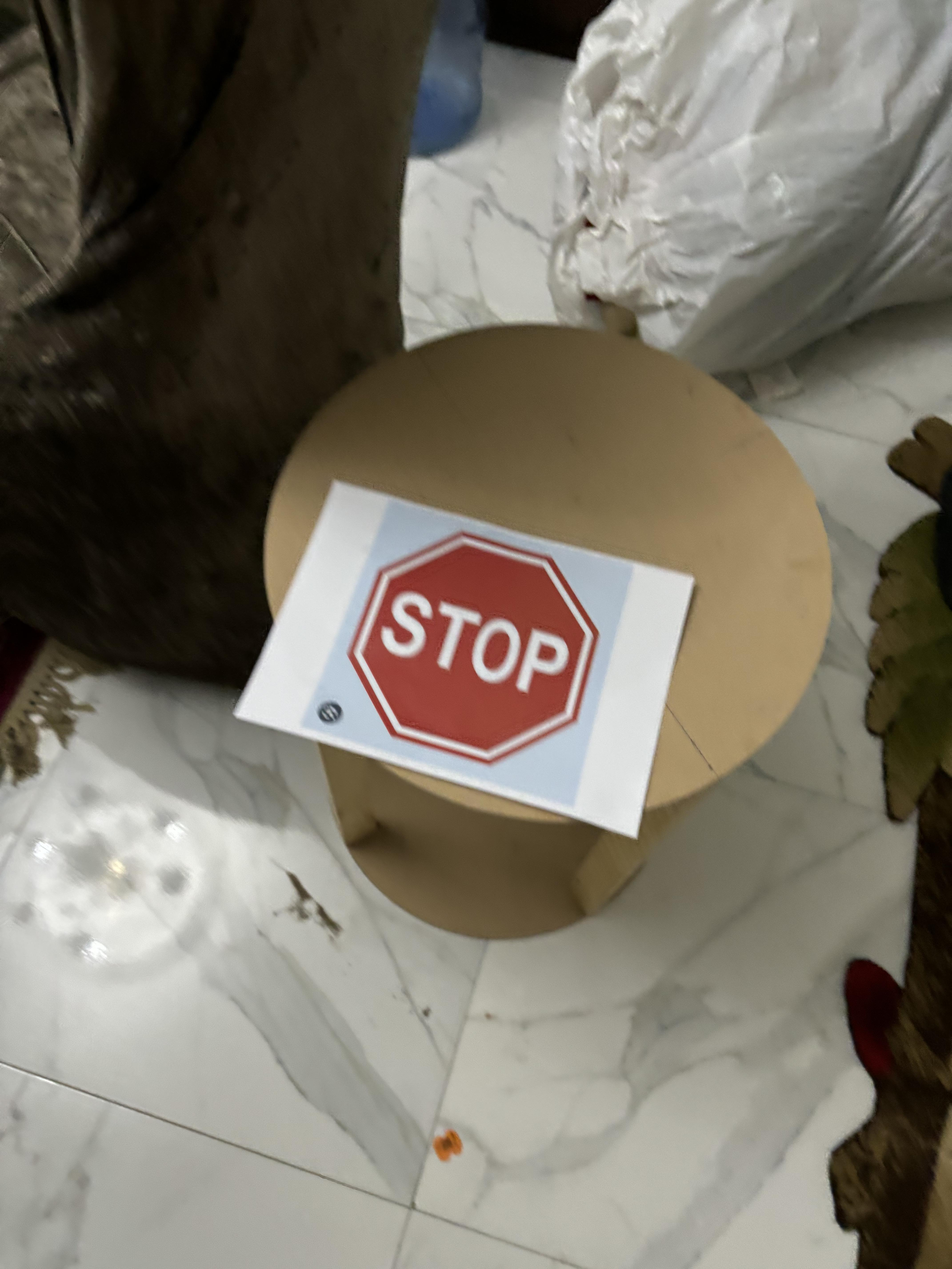Stop: (345, 531, 605, 771)
